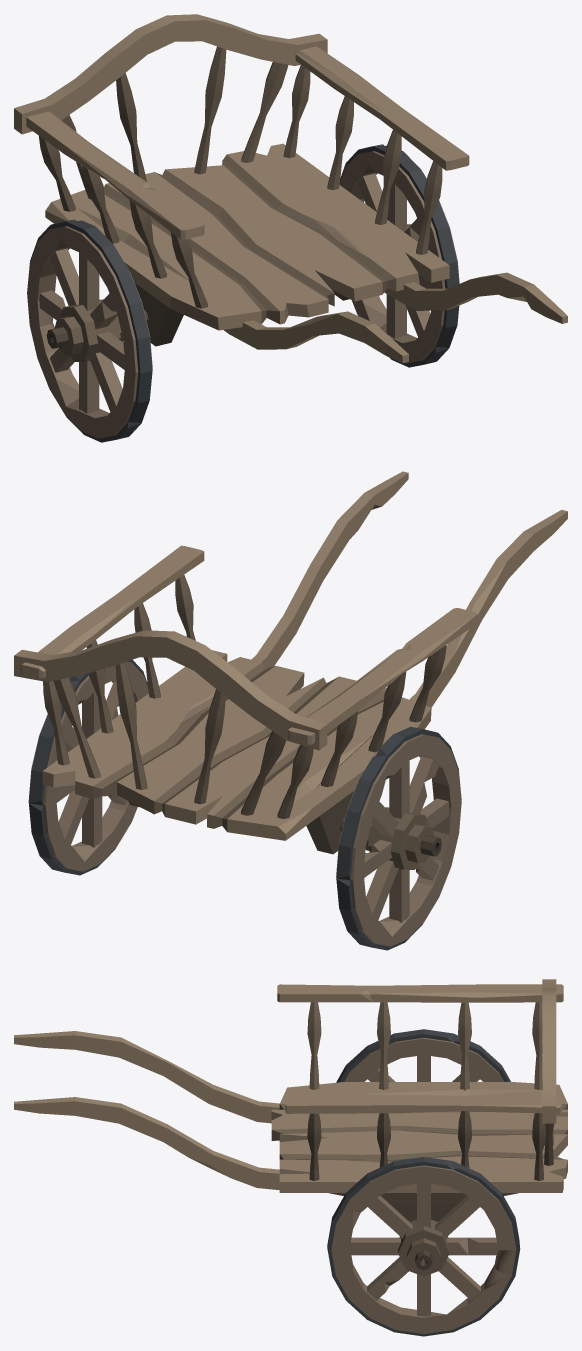
The model's file is meadow_SM_Prop_HandCart_01.gltf.
3 renders of one model, top to bottom at view 1: azimuth 30°, elevation 25°; view 2: azimuth 150°, elevation 25°; view 3: azimuth 270°, elevation 25°, orthographic. The views are drawn at different scales.
Visible parts, largest first — view 1: SM_Prop_HandCart_01, SM_Prop_HandCart_01_Wheel_r, SM_Prop_HandCart_01_Wheel_l; view 2: SM_Prop_HandCart_01, SM_Prop_HandCart_01_Wheel_r, SM_Prop_HandCart_01_Wheel_l; view 3: SM_Prop_HandCart_01, SM_Prop_HandCart_01_Wheel_l, SM_Prop_HandCart_01_Wheel_r.
Part boxes in pixels (x1,y1,x2,y2): SM_Prop_HandCart_01: (14,14,567,363); SM_Prop_HandCart_01_Wheel_r: (27,219,152,442); SM_Prop_HandCart_01_Wheel_l: (339,144,459,367); SM_Prop_HandCart_01: (14,471,567,856); SM_Prop_HandCart_01_Wheel_r: (336,727,461,950); SM_Prop_HandCart_01_Wheel_l: (28,659,148,875); SM_Prop_HandCart_01: (14,979,567,1270); SM_Prop_HandCart_01_Wheel_l: (327,1157,520,1336); SM_Prop_HandCart_01_Wheel_r: (336,1029,510,1082).
Size of the model in its own units: 1.88 by 1.51 by 2.75.
Materials: 1 (1 with a texture image).
